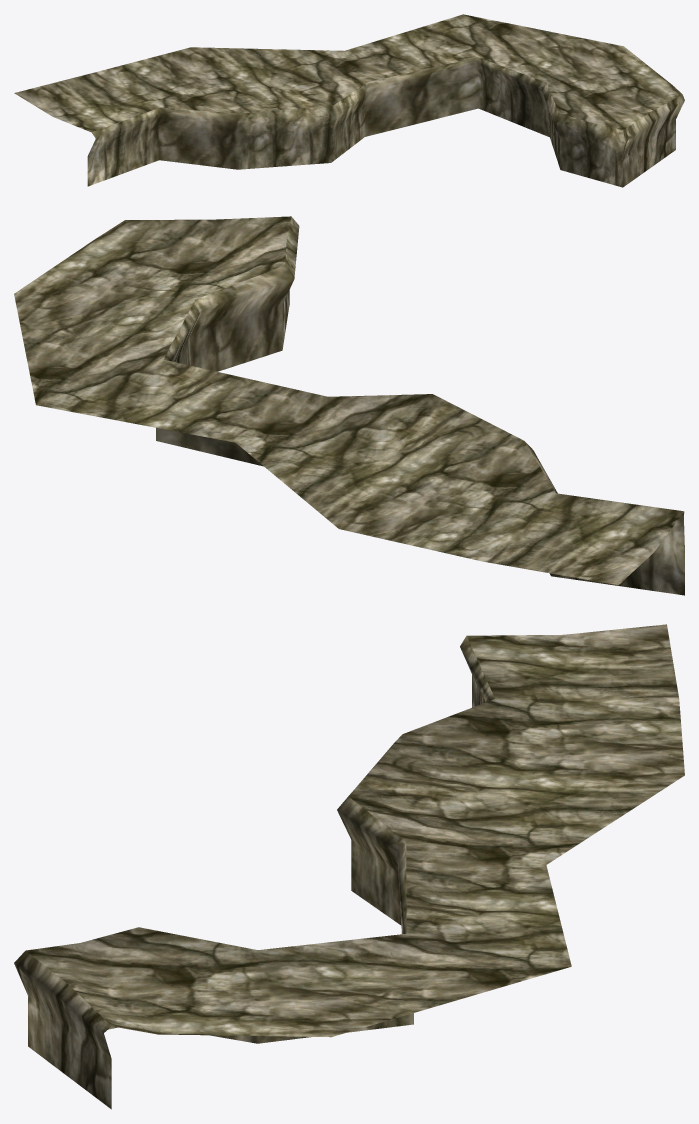
The model's file is CB_NEWPLAYSURFACE_CB_PLAYSURFACE108.fbx.
The picture shows the model from 3 angles, top to bottom: view 1: azimuth 30°, elevation 25°; view 2: azimuth 150°, elevation 25°; view 3: azimuth 270°, elevation 25°; orthographic projection. The views are drawn at different scales.
Parts seen in each view (by area): view 1: CB_NEWPLAYSURFACE_CB_PLAYSURFACE108; view 2: CB_NEWPLAYSURFACE_CB_PLAYSURFACE108; view 3: CB_NEWPLAYSURFACE_CB_PLAYSURFACE108.
Part boxes in pixels (x1,y1,x2,y2): CB_NEWPLAYSURFACE_CB_PLAYSURFACE108: (14,14,684,187); CB_NEWPLAYSURFACE_CB_PLAYSURFACE108: (14,216,684,595); CB_NEWPLAYSURFACE_CB_PLAYSURFACE108: (14,624,684,1109).
Size of the model in its own units: 254511 by 27769 by 176719.
2 materials, 2 textured.
